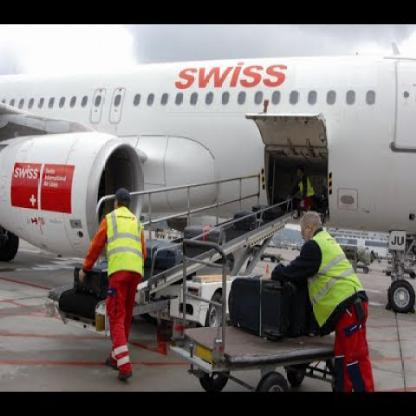baggagetruck: (40, 158, 296, 356)
